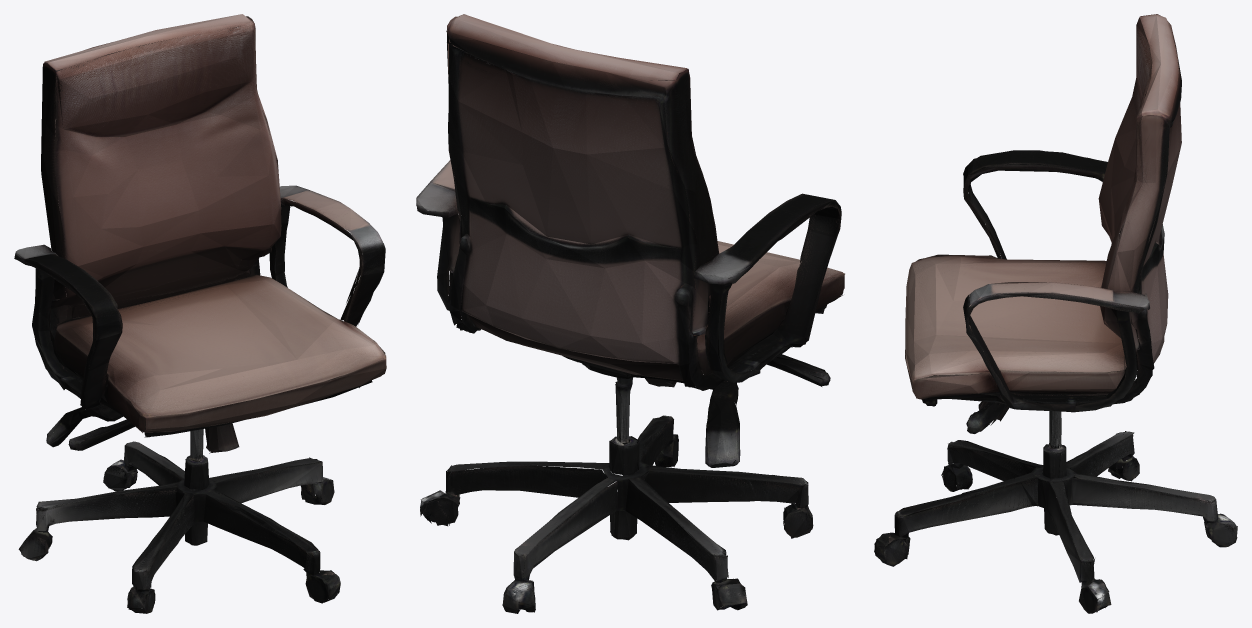
Rendered from officechair-trellis.glb.
The picture shows the model from 3 angles, left to right: view 1: azimuth 30°, elevation 25°; view 2: azimuth 150°, elevation 25°; view 3: azimuth 270°, elevation 25°; orthographic projection. The views are drawn at different scales.
Parts seen in each view (by area): view 1: geometry_0; view 2: geometry_0; view 3: geometry_0.
Boxes of the visible parts, x1,y1,x2,y2 form: geometry_0: (14,14,386,613); geometry_0: (416,14,844,613); geometry_0: (874,14,1237,613).
Bounding box in the file's own units: 0.6856 × 1 × 0.6892.
1 material, 1 textured.
